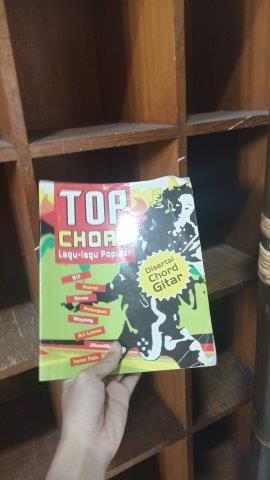kertas: (40, 180, 219, 381)
